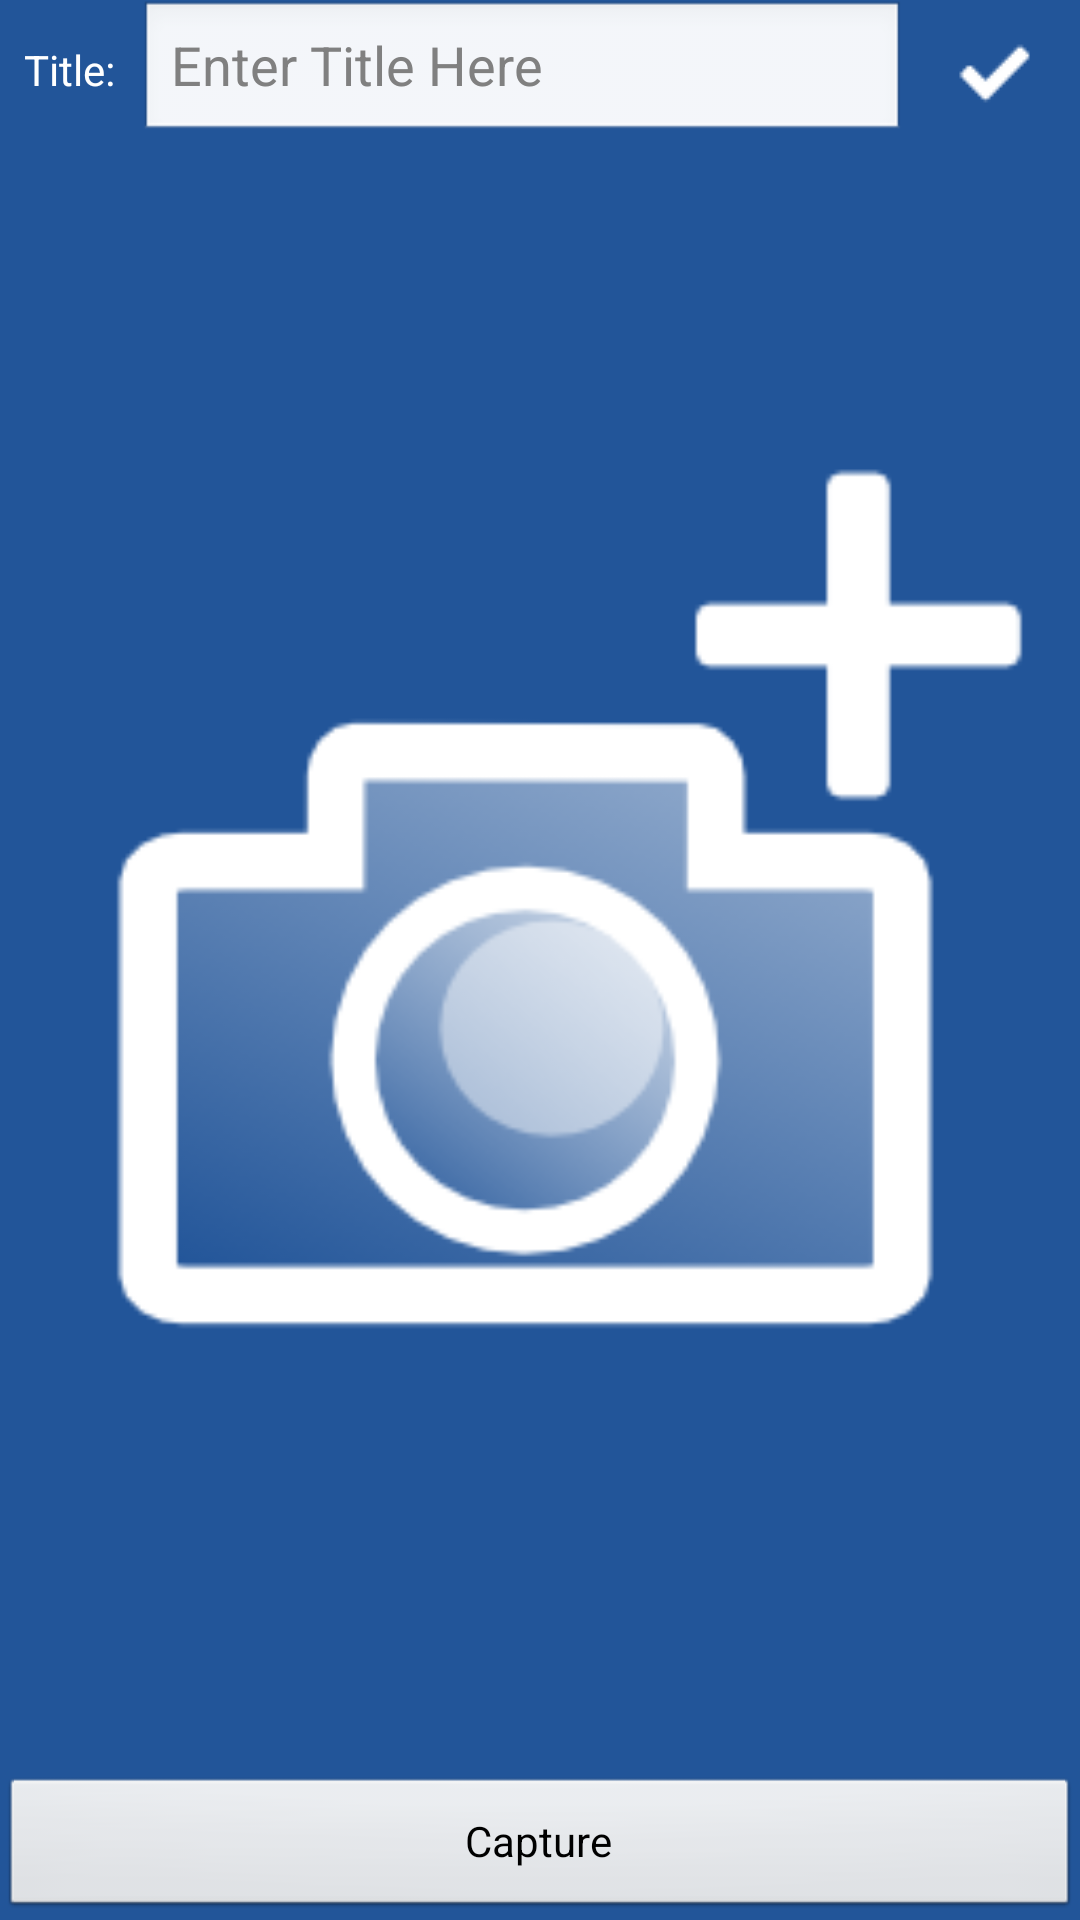

Icon click points for this 1080w x 1920h phone screenshot, format (x=x, y=y):
Save and close: (x=994, y=73)
